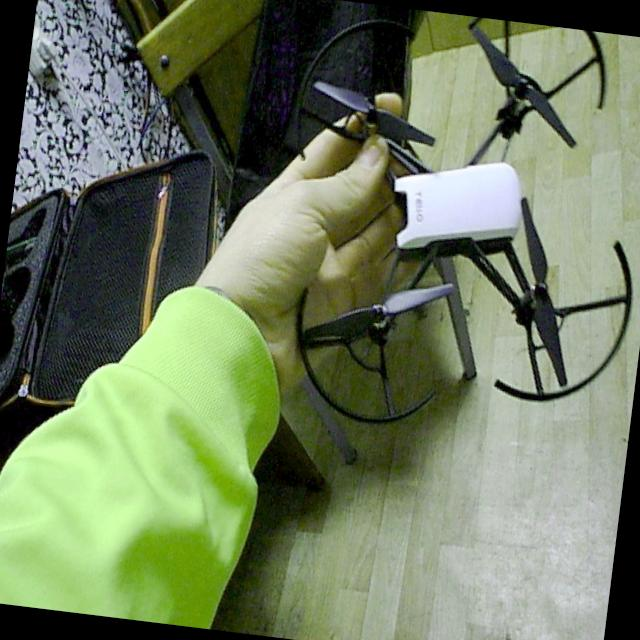drone: (251, 0, 640, 464)
